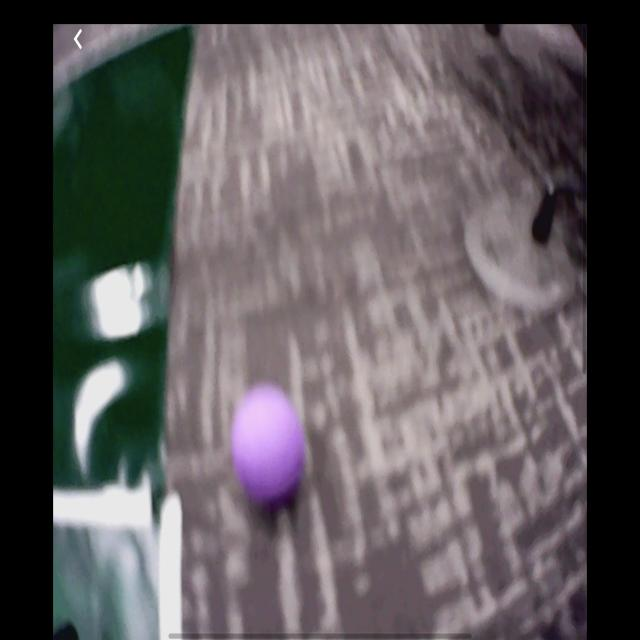ball: (232, 388, 306, 509)
